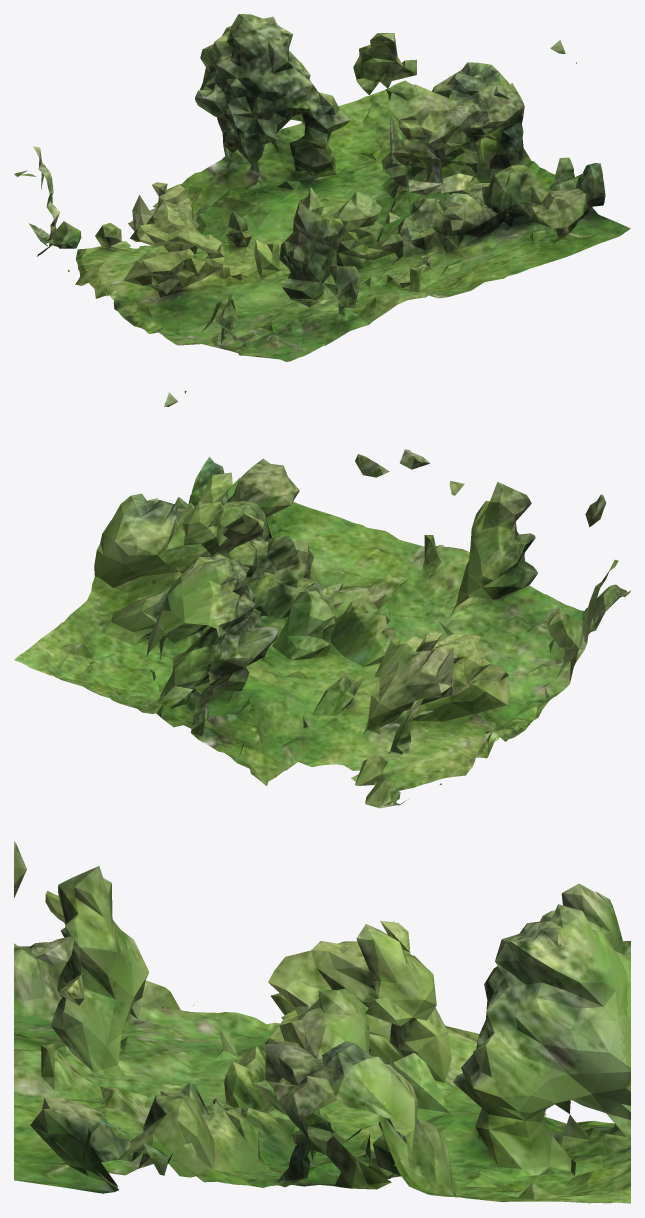
3 views of the same model, one above another, from view 1: azimuth 30°, elevation 25°; view 2: azimuth 150°, elevation 25°; view 3: azimuth 270°, elevation 25° (orthographic). The views are drawn at different scales.
Bounding box in the file's own units: 52.22 × 27.91 × 52.22.
5 materials, 5 textured.
